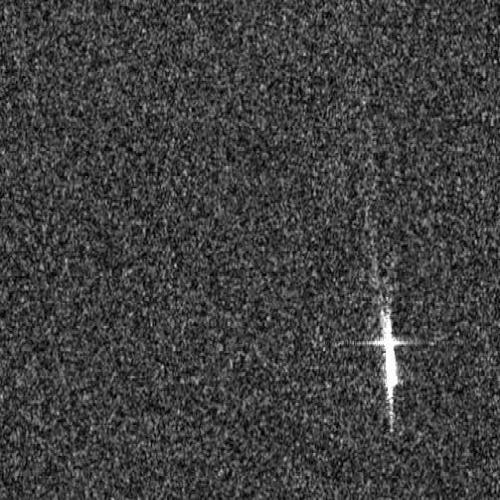ship: (380, 308, 398, 396)
